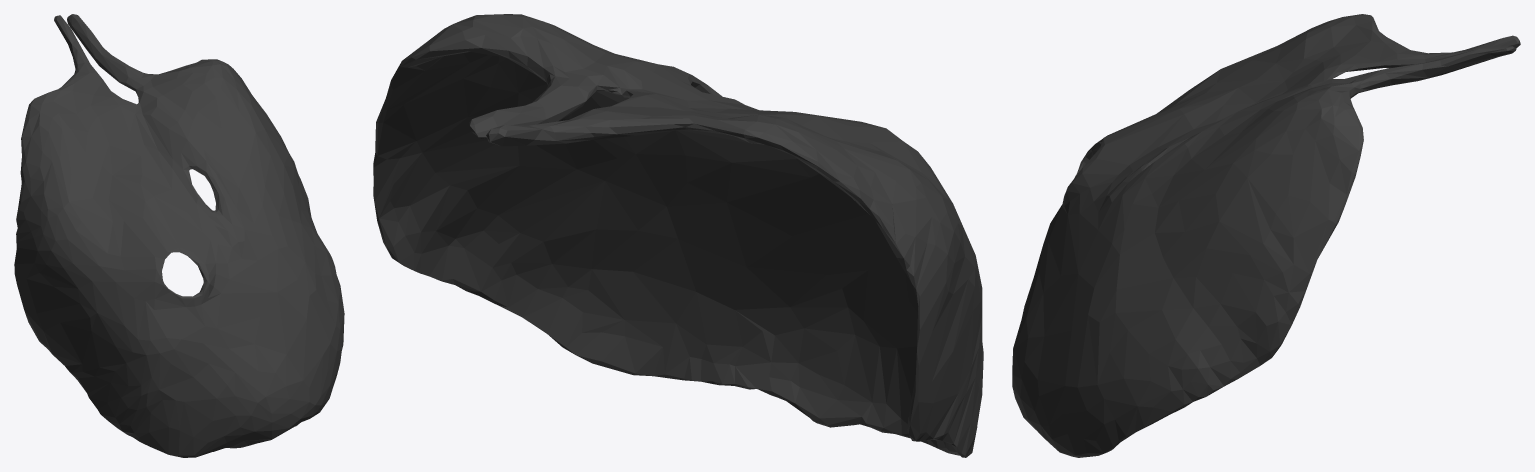
Rendered from m_diaphragma.glb.
3 renders of one model, left to right at view 1: azimuth 30°, elevation 25°; view 2: azimuth 150°, elevation 25°; view 3: azimuth 270°, elevation 25°, orthographic. The views are drawn at different scales.
Visible parts, largest first — view 1: m_diaphragma; view 2: m_diaphragma; view 3: m_diaphragma.
Part boxes in pixels (box(x1,y1,x2,y2)): m_diaphragma: box(14, 14, 344, 457); m_diaphragma: box(373, 14, 983, 457); m_diaphragma: box(1012, 14, 1520, 457).
Bounding box in the file's own units: 0.00744 × 0.00726 × 0.00882.
Materials: 1 (1 with a texture image).
